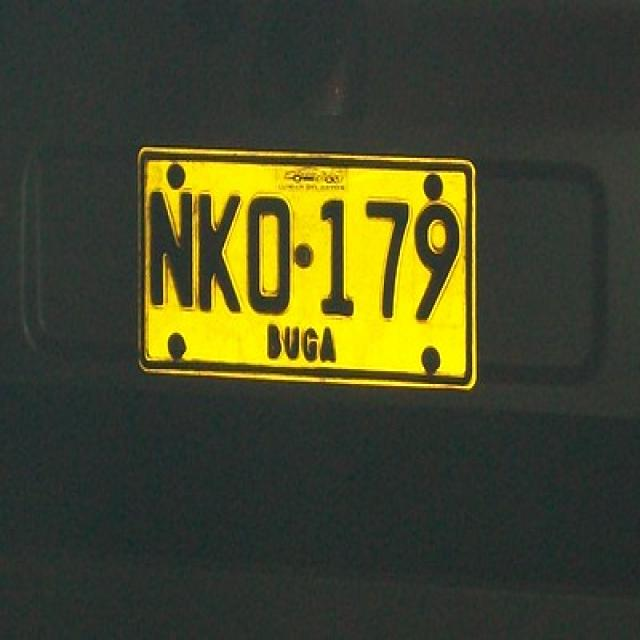placa_carro: (120, 130, 497, 436)
